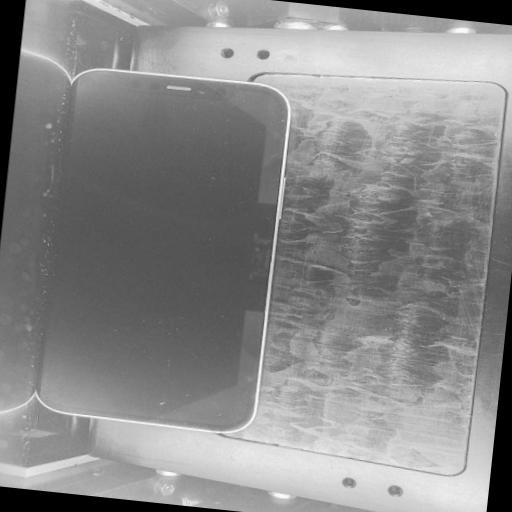phone: (25, 66, 301, 445)
